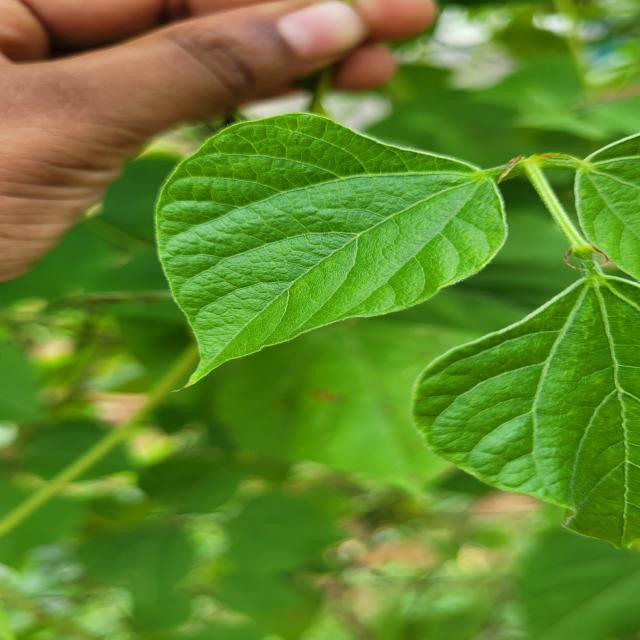Dolicos bean_healthy: (150, 110, 511, 385), (409, 268, 640, 549)
